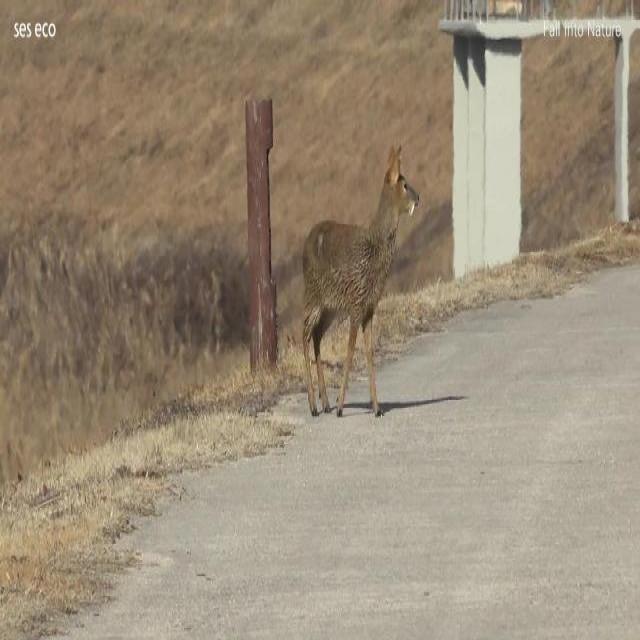deer: (300, 141, 422, 418)
